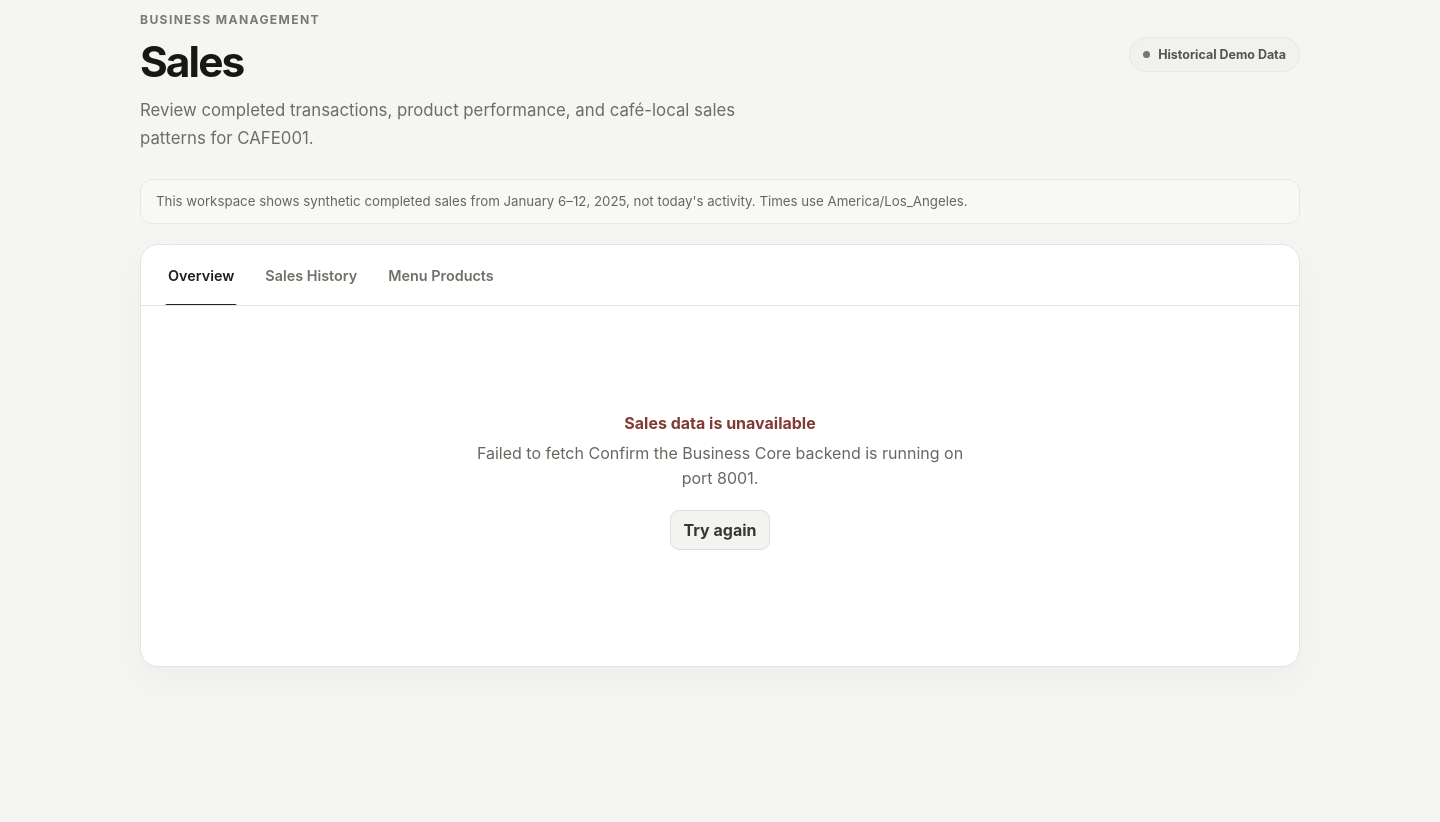
SalesPage › shows an API error and retries all read-only datasets
Expected: the text "Sales data is unavailable" is shown, left=624, top=412, right=816, bottom=432
Expected: the text "backend is running on port 8001" is shown, left=477, top=442, right=963, bottom=488
Click the button "Try again": (720,530) left=670, top=510, right=770, bottom=550
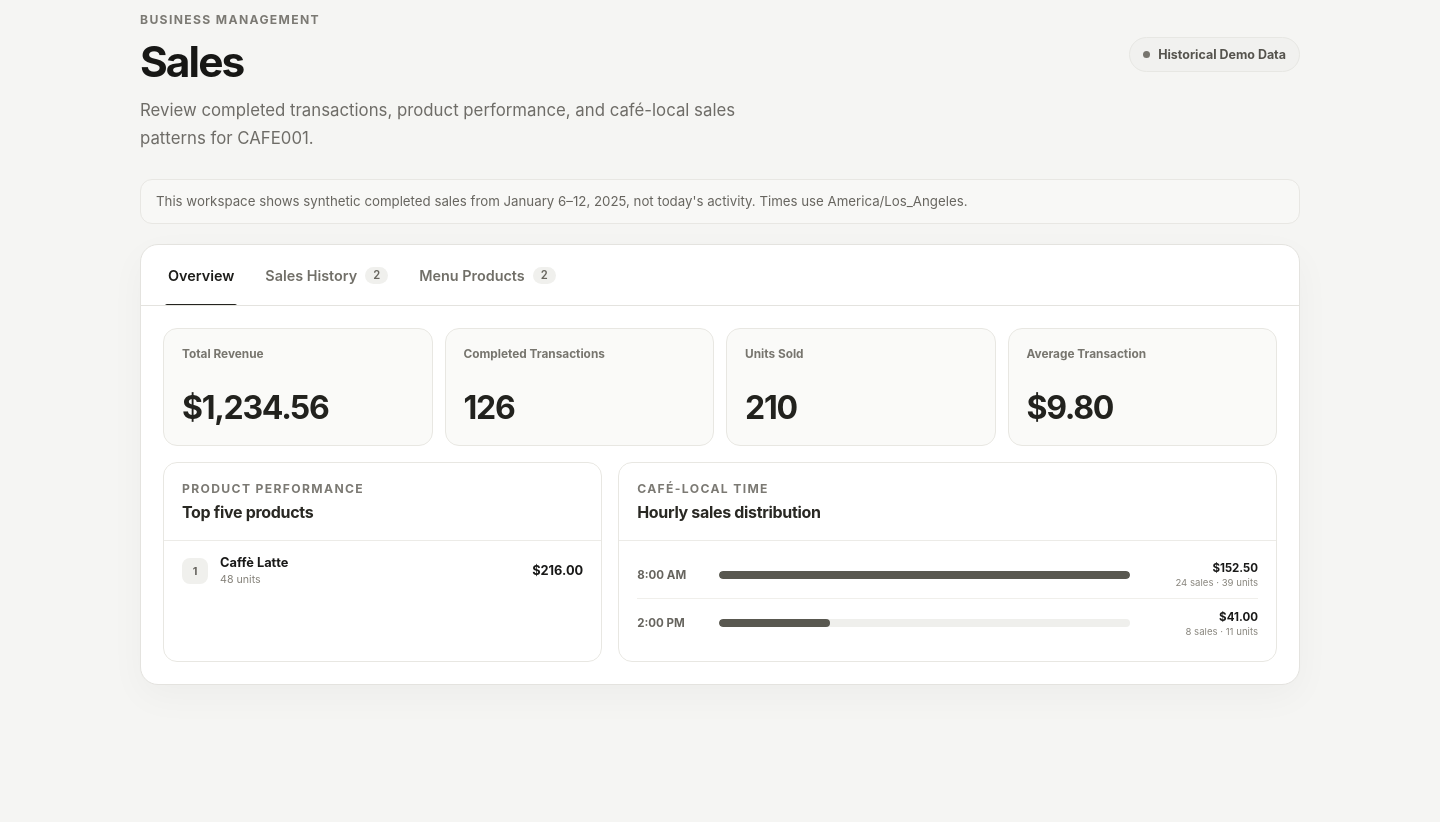
Now the text "$1,234.56" is shown, box left=182, top=388, right=328, bottom=427
